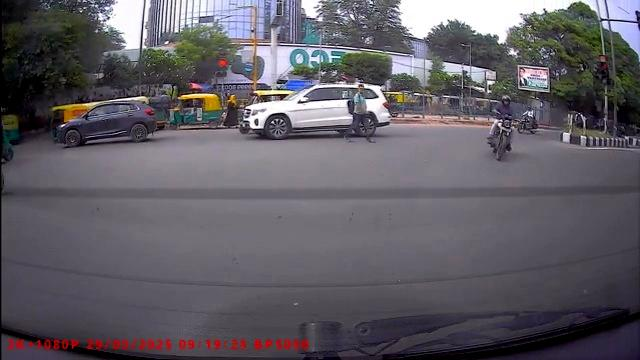motorcycle_with_helmet: (487, 94, 514, 161)
